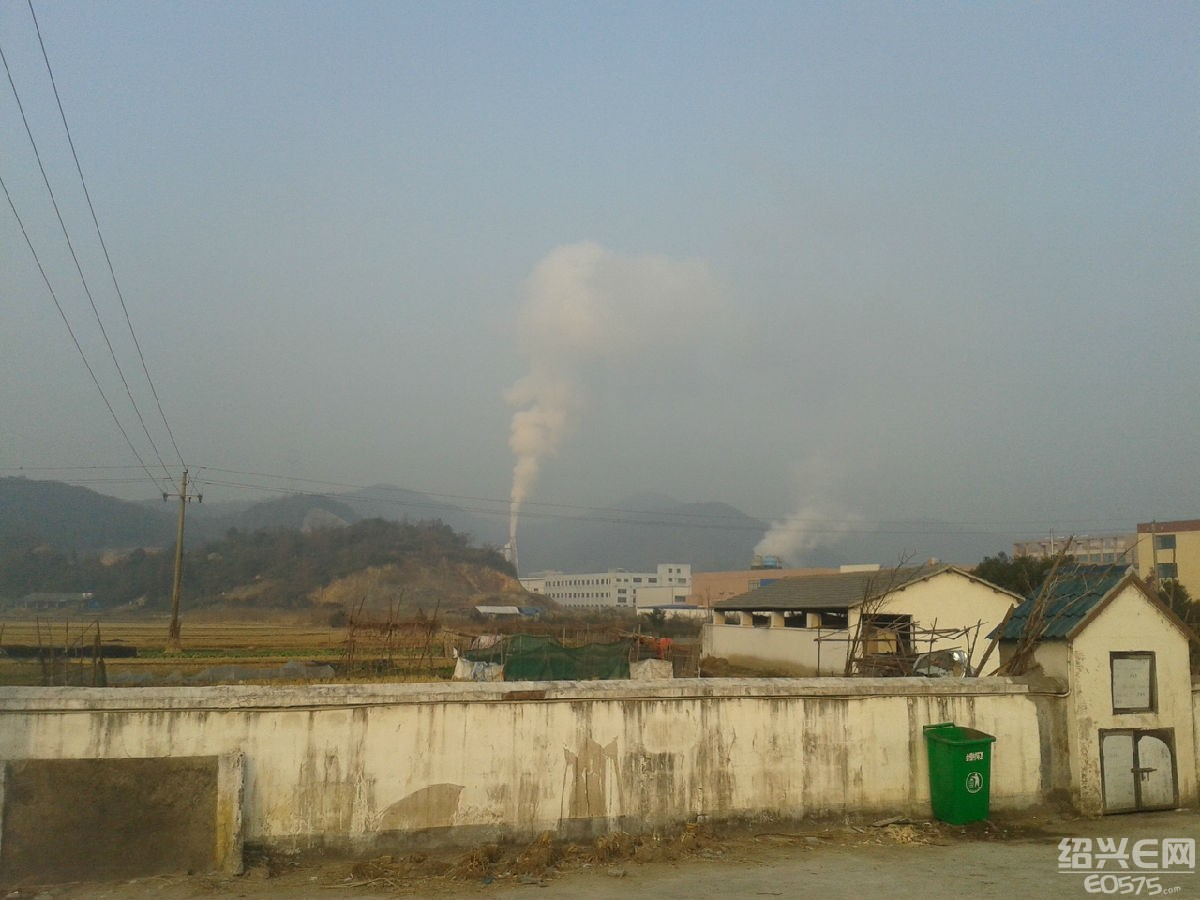dust: (473, 246, 669, 542)
